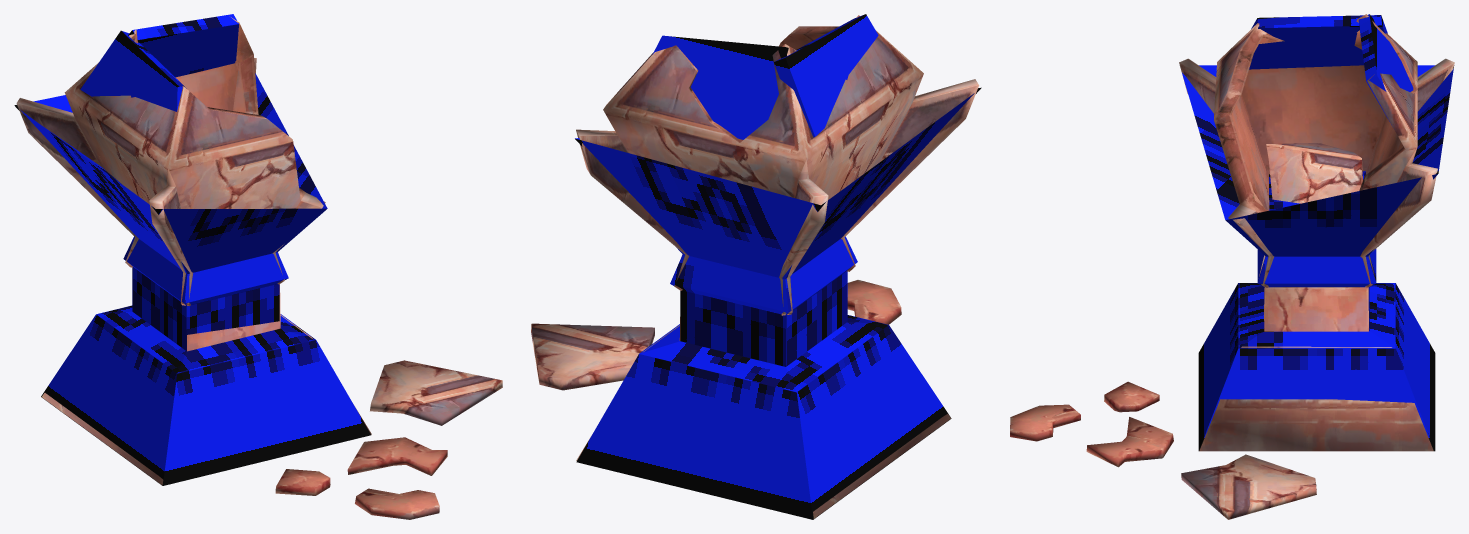
The model's file is kor_tomb_item_urn_broken.glb.
The picture shows the model from 3 angles, left to right: view 1: azimuth 30°, elevation 25°; view 2: azimuth 150°, elevation 25°; view 3: azimuth 270°, elevation 25°; orthographic projection. The views are drawn at different scales.
Parts seen in each view (by area): view 1: cover, kor_tomb_item_urn_broken; view 2: cover, kor_tomb_item_urn_broken; view 3: kor_tomb_item_urn_broken, cover.
Boxes of the visible parts, x1,y1,x2,y2 form: cover: (14,14,370,485); kor_tomb_item_urn_broken: (16,16,502,519); cover: (575,14,981,519); kor_tomb_item_urn_broken: (531,15,979,518); kor_tomb_item_urn_broken: (1010,14,1454,519); cover: (1182,14,1454,451).
Bounding box in the file's own units: 0.357 × 0.3457 × 0.3792.
Materials: 2 (2 with a texture image).
